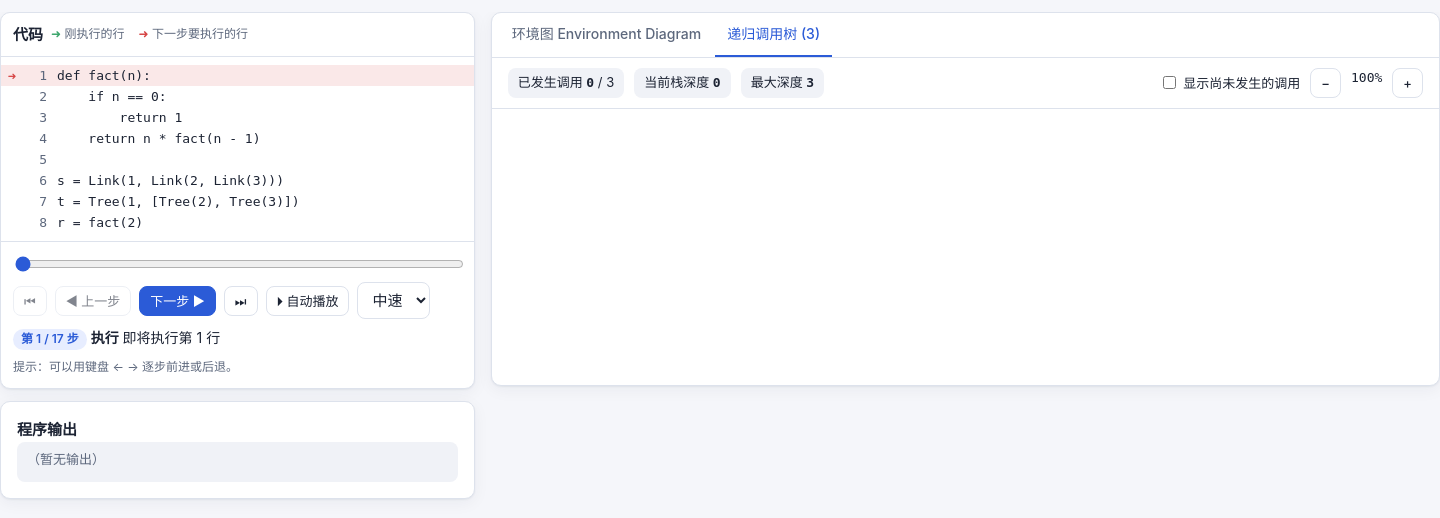
Visualizer › steps forward and backward with buttons and keys
Step 1. Click the button "下一步 ▶" → coordinates (178, 301), box [139, 286, 216, 316]
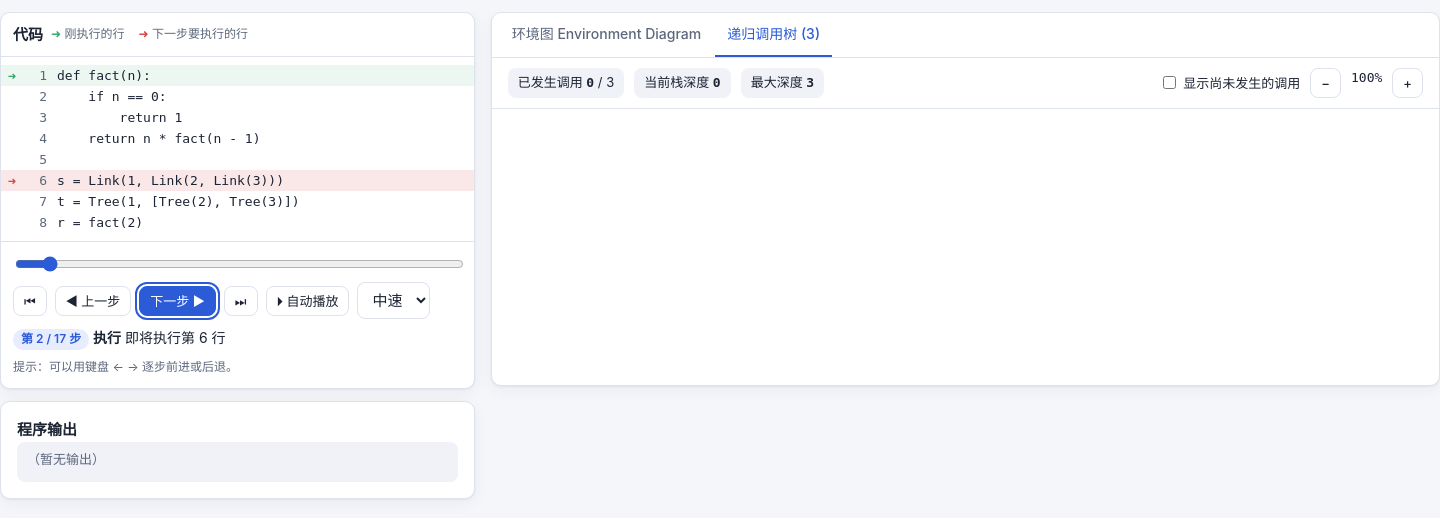
Check: the element with test id "step-desc" shows "第 2 /", box [13, 329, 226, 350]
Step 2. Press ArrowRight
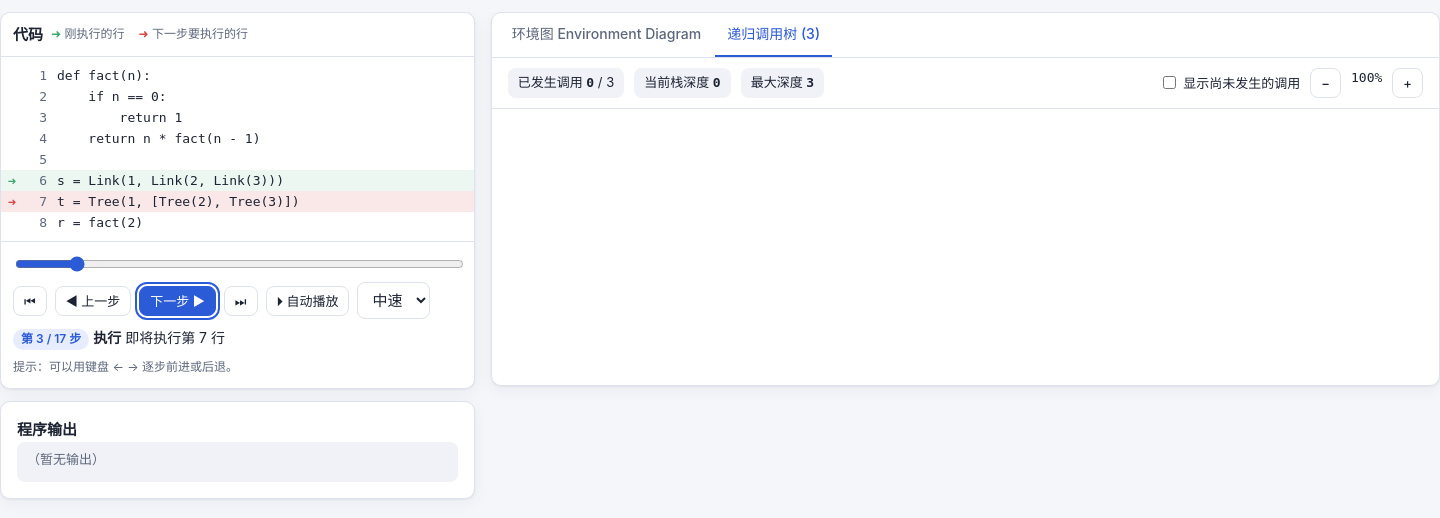
Check: the element with test id "step-desc" shows "第 3 /", box [13, 329, 225, 350]
Step 3. Press ArrowLeft
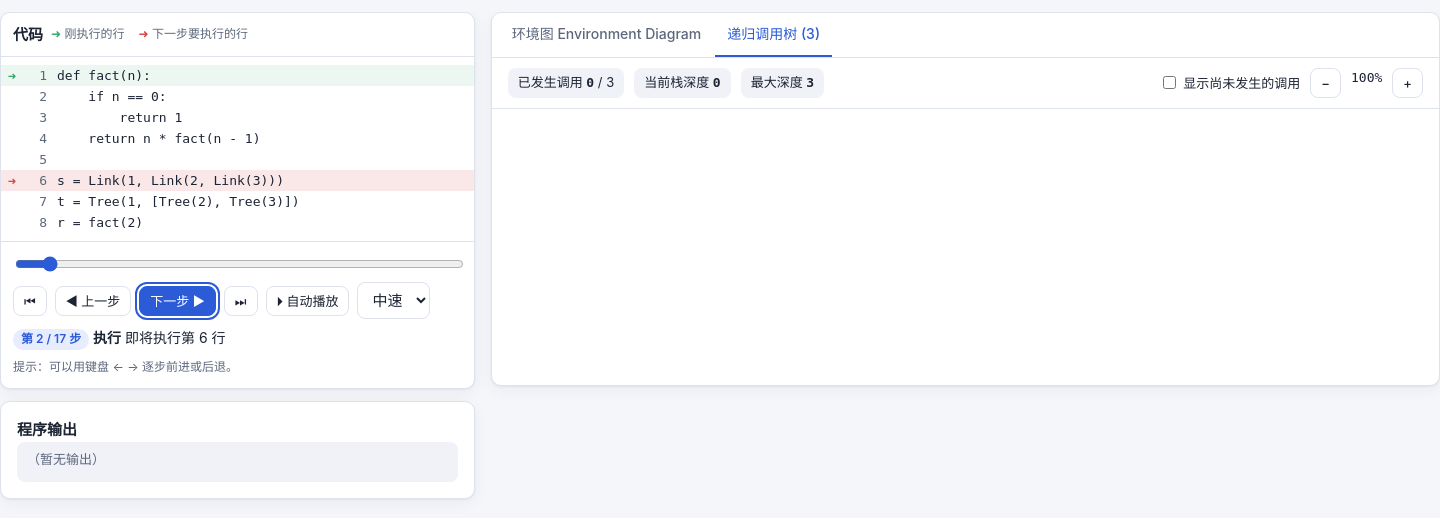
Check: the element with test id "step-desc" shows "第 2 /", box [13, 329, 226, 350]
Step 4. Click the button named "最后一步" → coordinates (241, 301), box [224, 286, 258, 316]
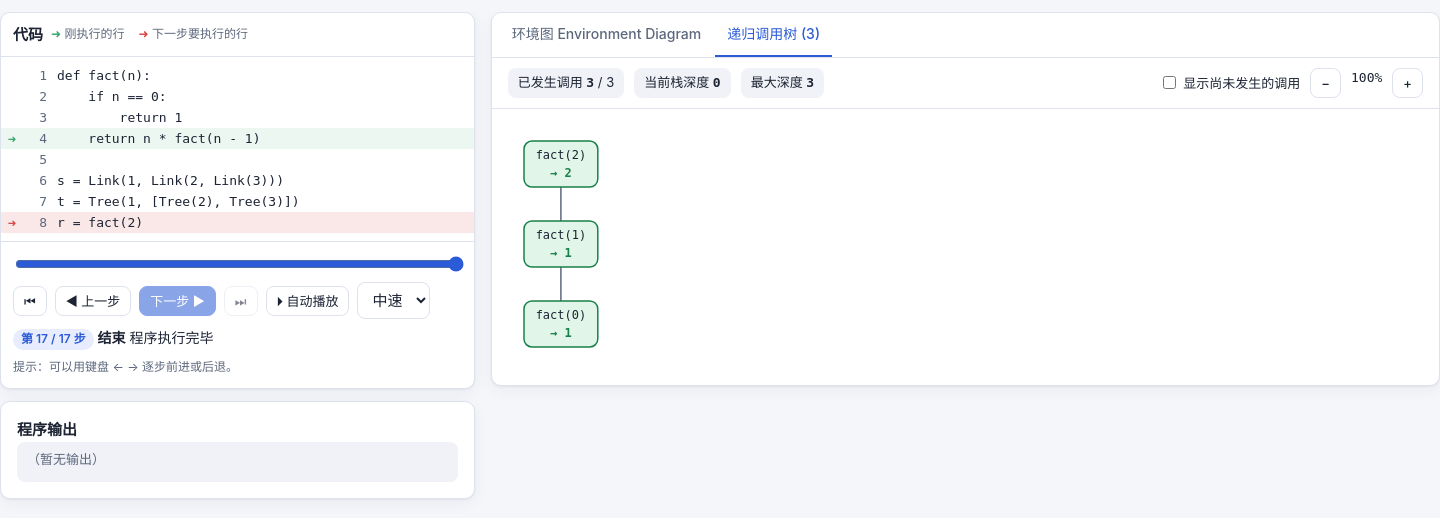
Check: the element with test id "step-desc" shows "程序执行完毕", box [130, 329, 214, 346]
